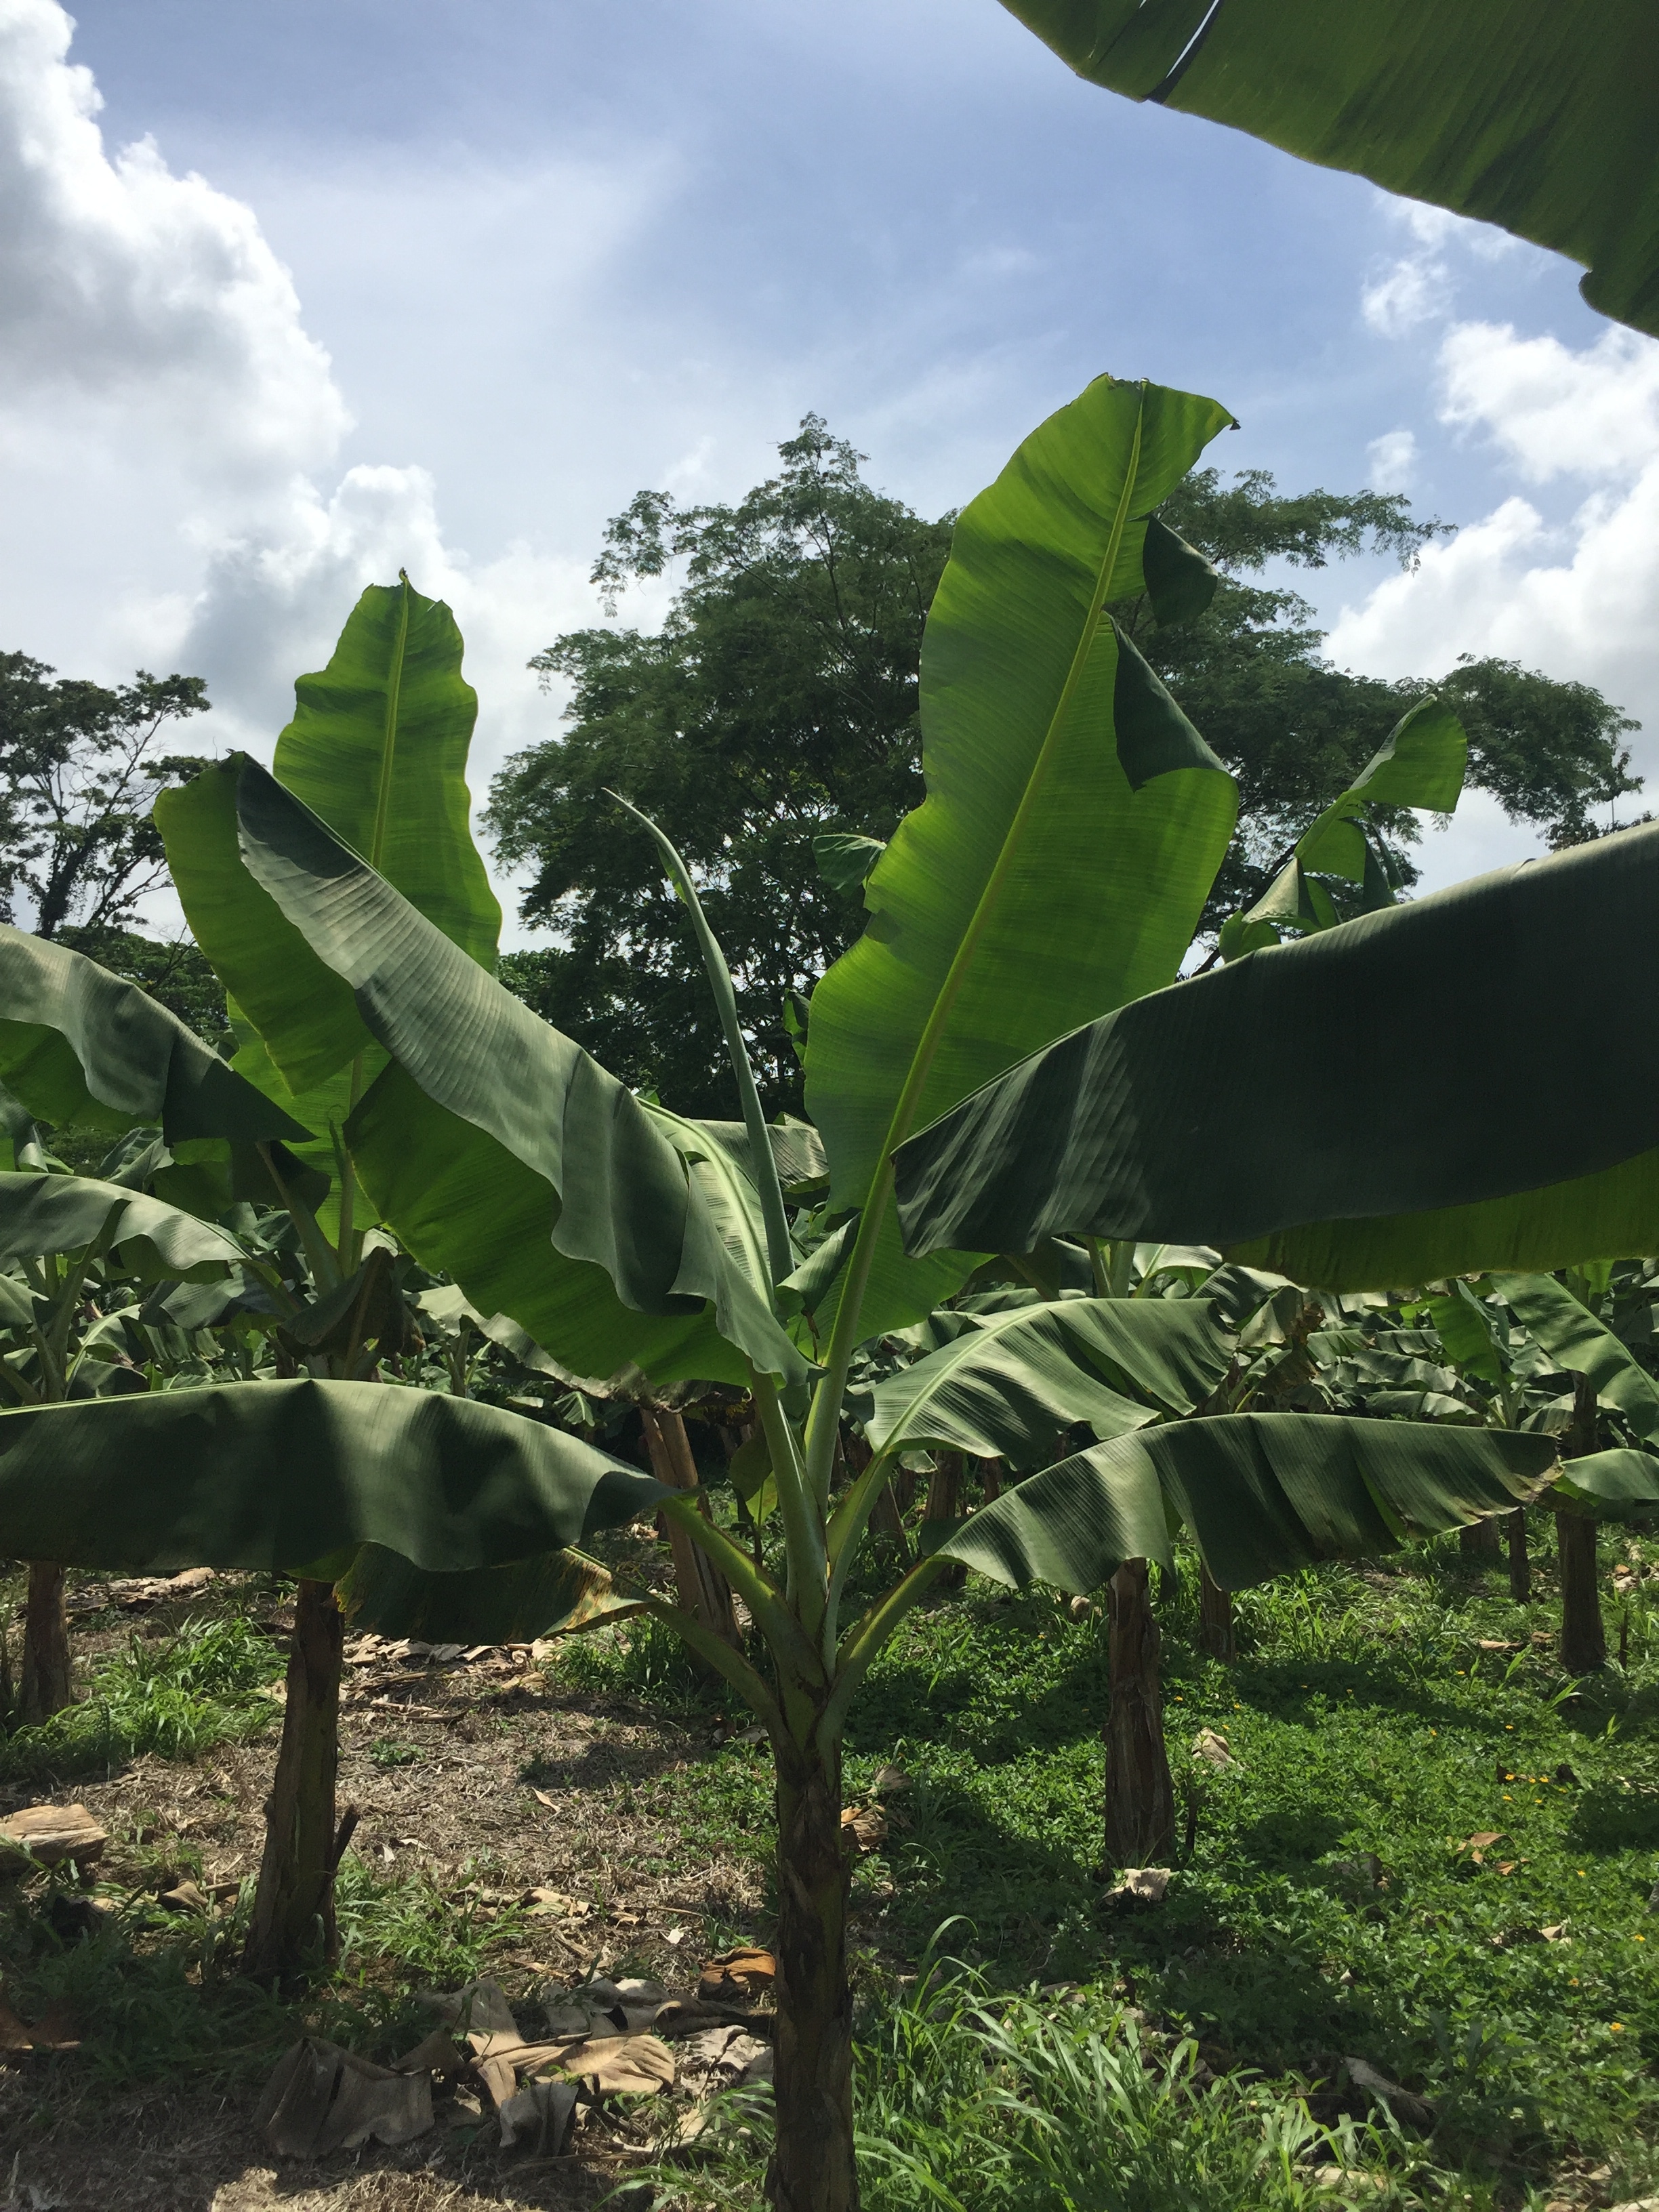candleleafs: (594, 787, 796, 1277)
